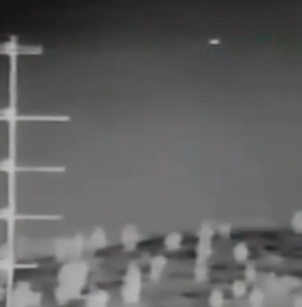Target: (209, 40, 218, 44)
